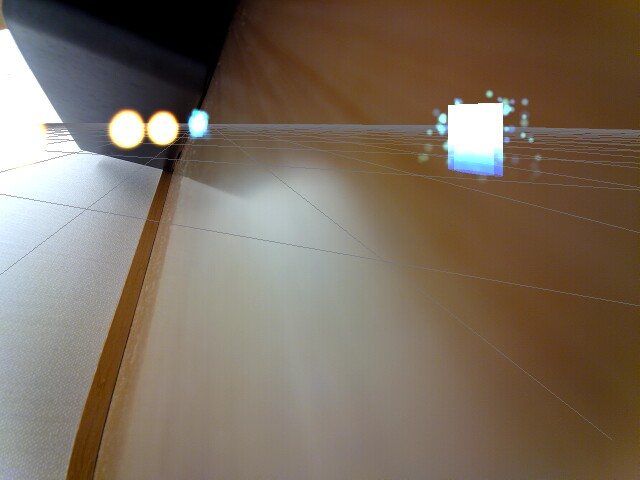firebig: (0, 101, 45, 171)
